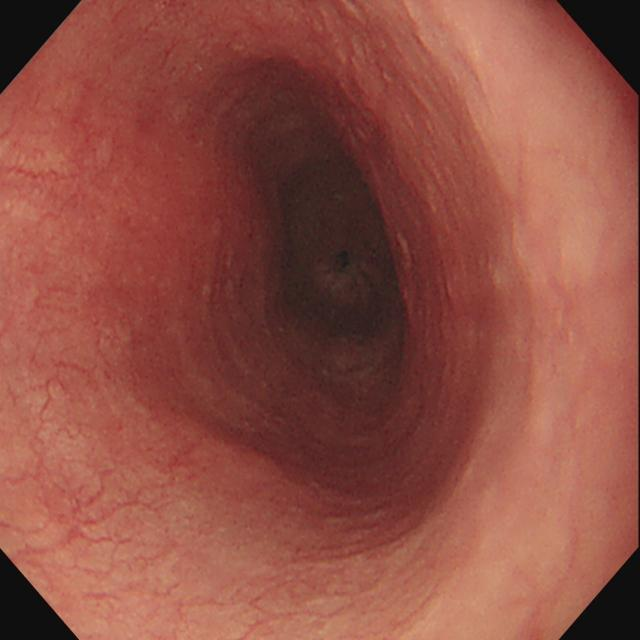E: (265, 142, 410, 350)
